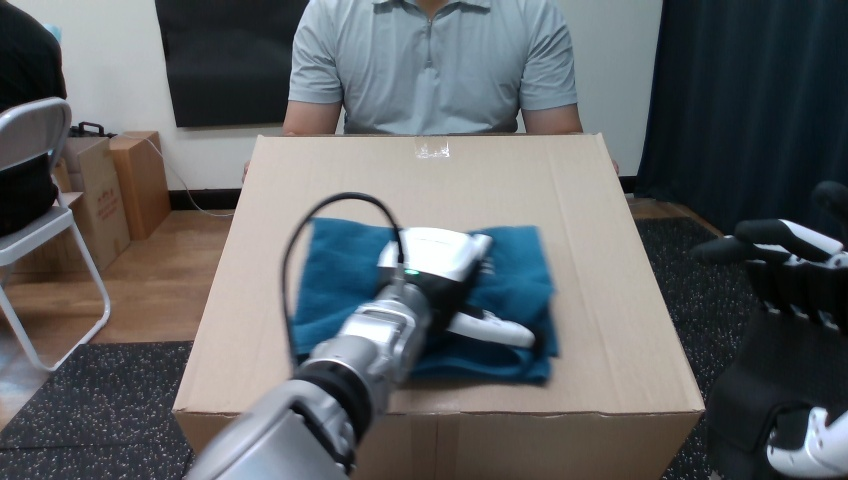left robot hand: (187, 192, 534, 479), (187, 228, 533, 478)
